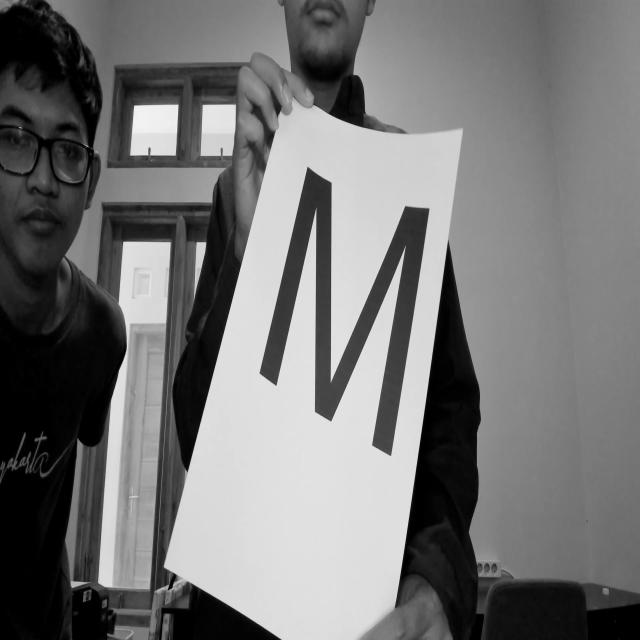m: (236, 144, 441, 487)
